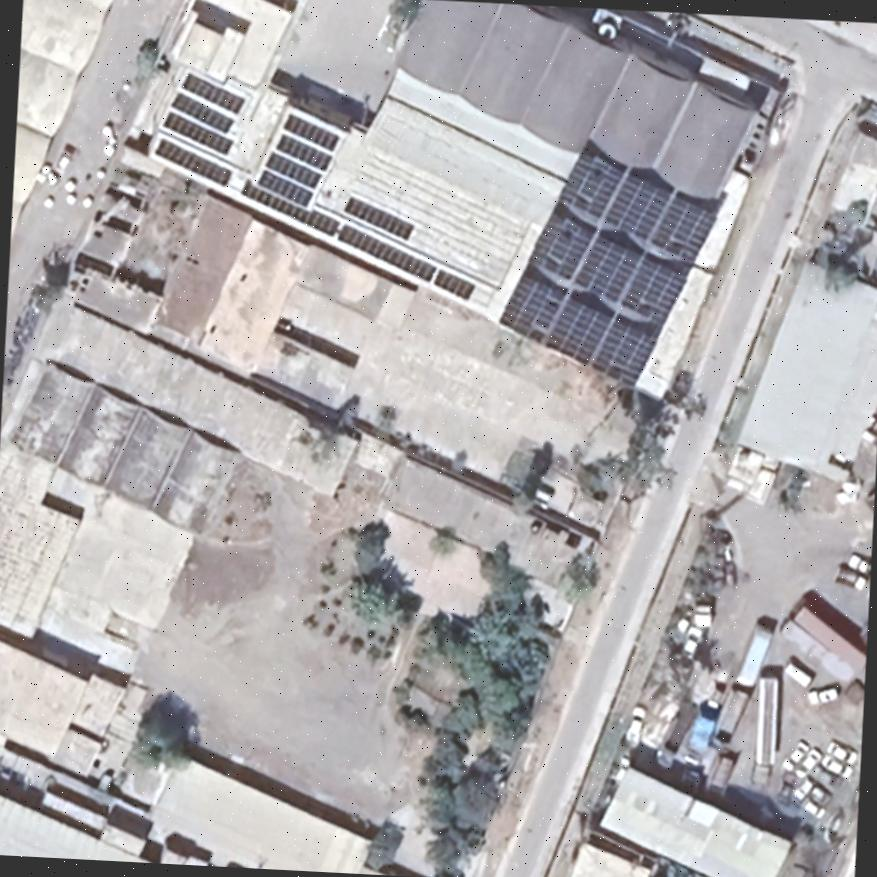Solarpanel: (486, 133, 730, 391), (234, 100, 494, 306), (142, 64, 256, 189)
